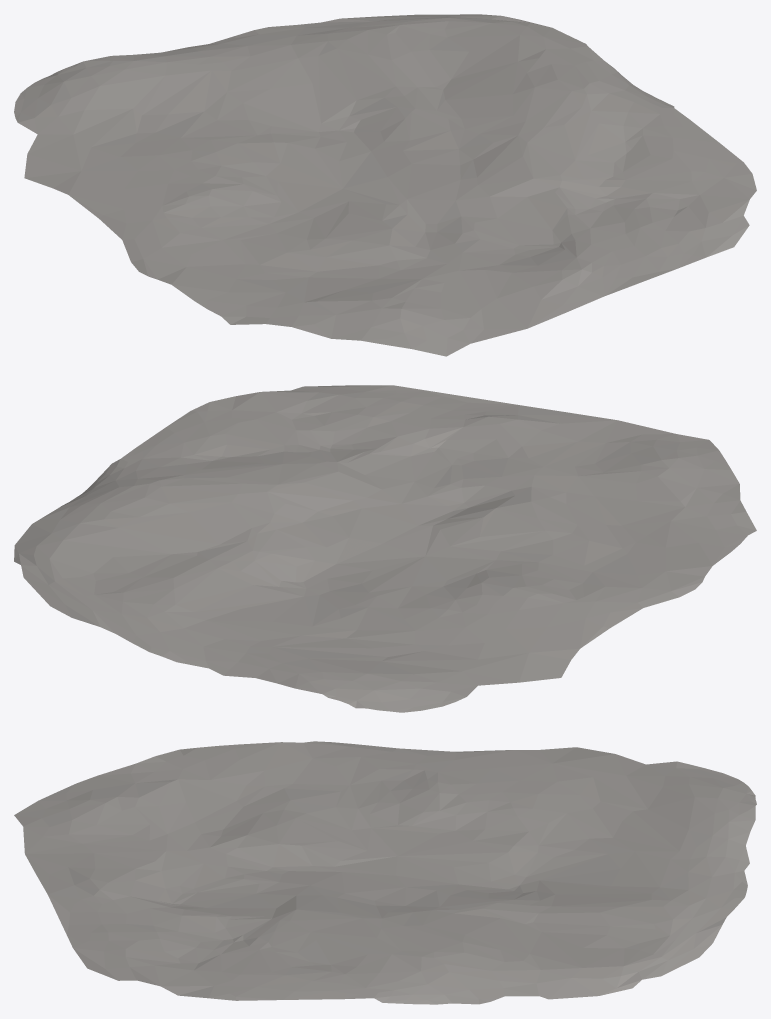
File: Cavern_Floor_Plane_Med.fbx
3 renders of one model, top to bottom at view 1: azimuth 30°, elevation 25°; view 2: azimuth 150°, elevation 25°; view 3: azimuth 270°, elevation 25°, orthographic.
Parts seen in each view (by area): view 1: Cavern_FloorPlane_Med; view 2: Cavern_FloorPlane_Med; view 3: Cavern_FloorPlane_Med.
Boxes of the visible parts, x1=… form: Cavern_FloorPlane_Med: x1=14, y1=14, x2=756, y2=356; Cavern_FloorPlane_Med: x1=14, y1=385, x2=756, y2=712; Cavern_FloorPlane_Med: x1=14, y1=741, x2=756, y2=1004.
Bounding box in the file's own units: 2340 × 106 × 2723.
Materials: 1 (1 with a texture image).
